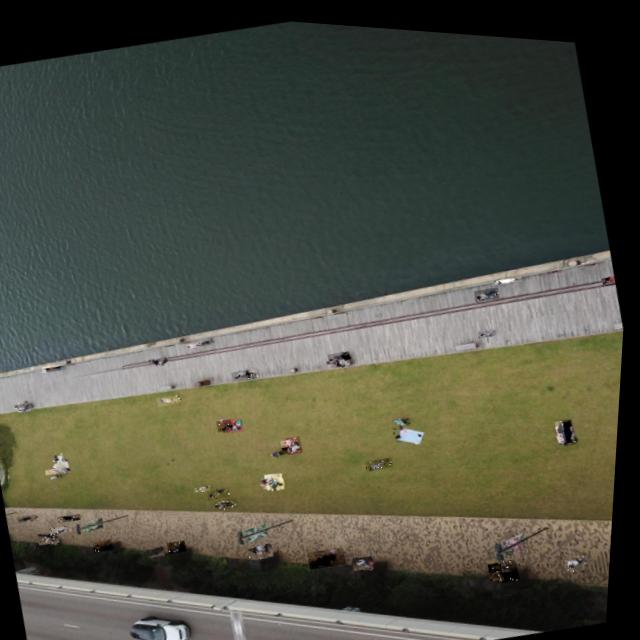Person: (313, 538, 353, 565), (499, 548, 527, 575), (568, 542, 596, 563), (369, 448, 399, 465), (563, 408, 581, 436), (476, 276, 503, 294), (357, 546, 382, 565), (258, 536, 280, 555), (218, 491, 244, 507), (253, 538, 276, 556), (43, 527, 66, 544), (290, 429, 308, 450), (331, 342, 355, 357), (212, 481, 236, 496), (99, 534, 121, 550), (493, 552, 510, 572), (497, 265, 525, 277), (172, 534, 193, 550), (161, 389, 183, 404), (558, 410, 572, 433), (239, 362, 262, 376), (235, 363, 255, 378), (55, 521, 79, 533), (63, 509, 87, 521), (328, 350, 350, 363), (152, 541, 172, 555), (220, 413, 238, 428), (22, 510, 44, 522), (45, 360, 66, 371), (274, 472, 289, 486), (481, 318, 500, 329), (228, 416, 245, 428), (157, 351, 174, 362), (152, 352, 168, 363), (604, 264, 618, 276), (199, 479, 217, 488), (21, 401, 37, 411), (49, 363, 66, 371), (50, 465, 65, 474), (190, 337, 206, 345), (59, 464, 73, 473), (18, 399, 33, 406), (285, 433, 296, 440), (175, 392, 186, 399), (286, 440, 295, 447)
